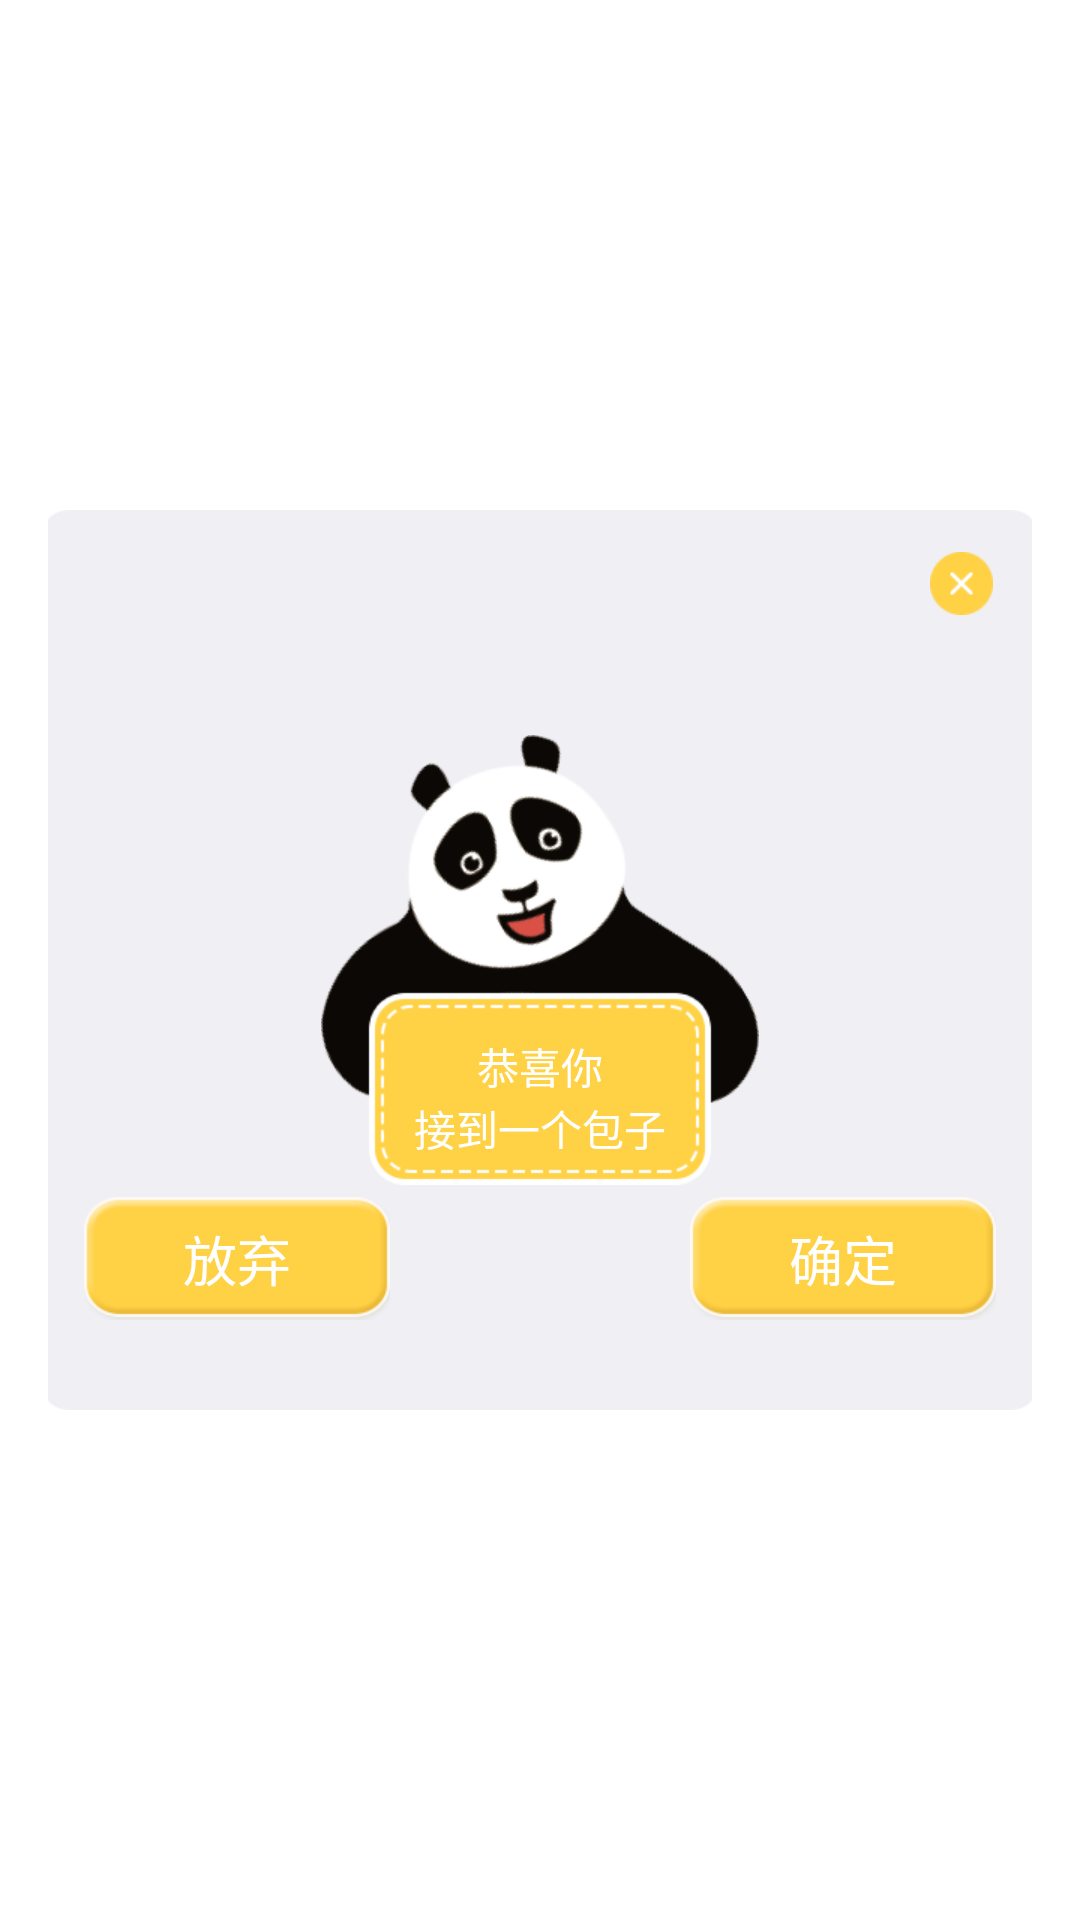

Icons on this 1080×1920 Android screen, each with its box as (x1, y1, x2, y2):
cancel: (930, 552, 993, 615)
